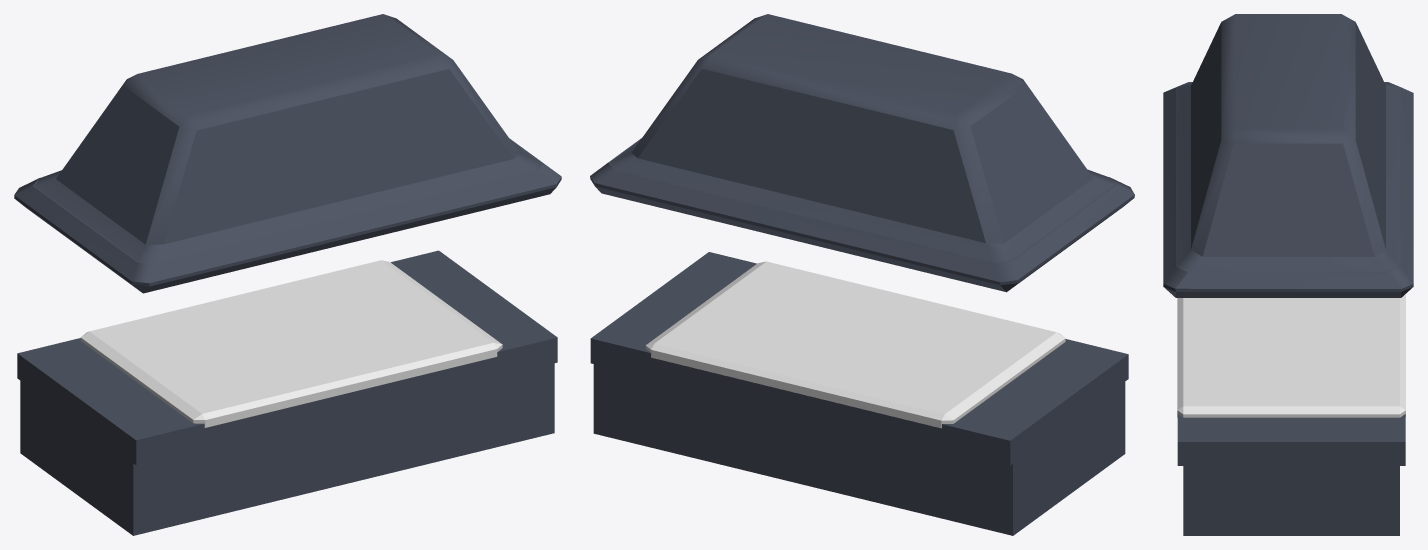
Rendered from Foodpass.fbx.
3 views of the same model, side by side, from view 1: azimuth 30°, elevation 25°; view 2: azimuth 150°, elevation 25°; view 3: azimuth 270°, elevation 25° (orthographic). The views are drawn at different scales.
Parts seen in each view (by area): view 1: pCube14; view 2: pCube14; view 3: pCube14.
Part boxes in pixels (<box>): pCube14: <box>14,14,561,535</box>; pCube14: <box>590,14,1134,535</box>; pCube14: <box>1163,14,1413,535</box>.
Size of the model in its own units: 2.22 by 1.87 by 1.16.
